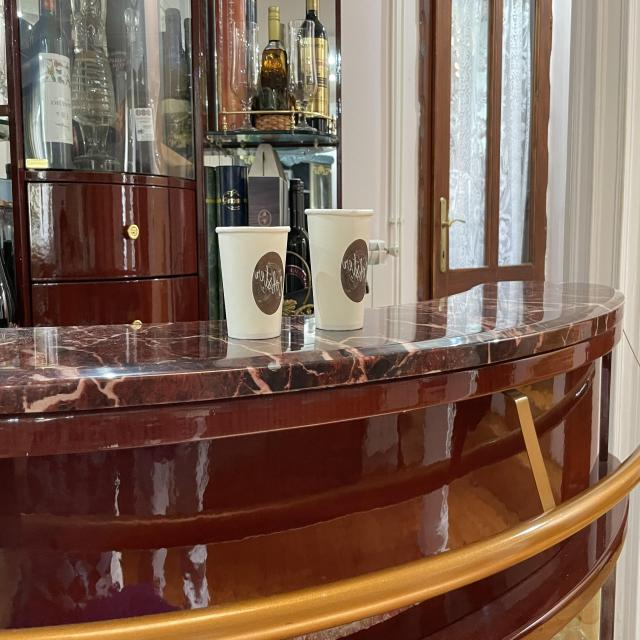medium: (302, 201, 379, 336)
small: (210, 216, 294, 345)
